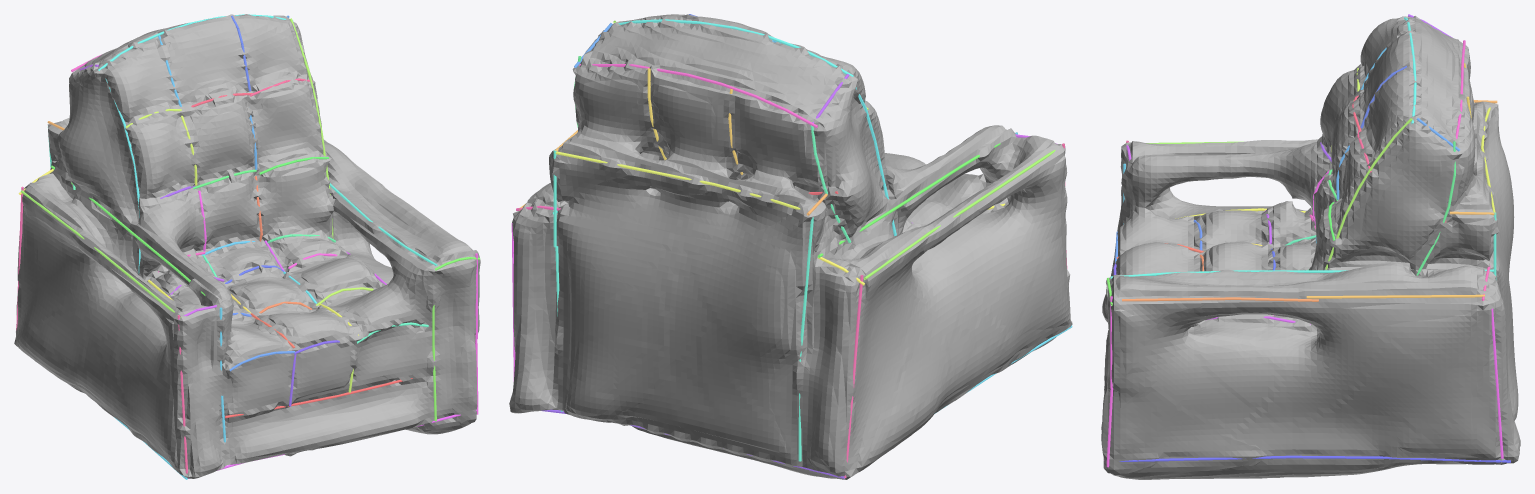
Rendered from author2_sofa.gltf.
3 views of the same model, side by side, from view 1: azimuth 30°, elevation 25°; view 2: azimuth 150°, elevation 25°; view 3: azimuth 270°, elevation 25° (orthographic). The views are drawn at different scales.
Size of the model in its own units: 0.5688 by 0.636 by 0.6301.
